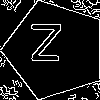Z: (30, 25, 62, 70)
